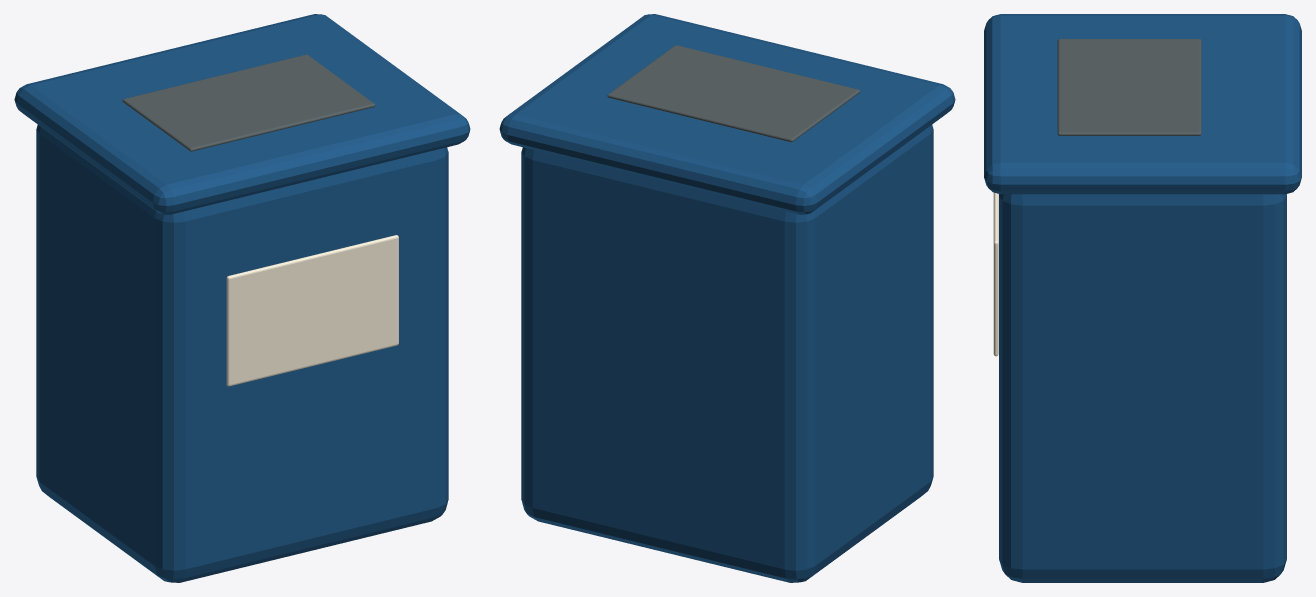
Rendered from CP08-recycle.glb.
3 views of the same model, side by side, from view 1: azimuth 30°, elevation 25°; view 2: azimuth 150°, elevation 25°; view 3: azimuth 270°, elevation 25° (orthographic). The views are drawn at different scales.
Parts seen in each view (by area): view 1: CP08-recycle; view 2: CP08-recycle; view 3: CP08-recycle.
Part boxes in pixels (x1=…): CP08-recycle: x1=14, y1=14, x2=470, y2=582; CP08-recycle: x1=499, y1=14, x2=955, y2=582; CP08-recycle: x1=984, y1=14, x2=1301, y2=582.
Size of the model in its own units: 1.14 by 1.42 by 0.95.
